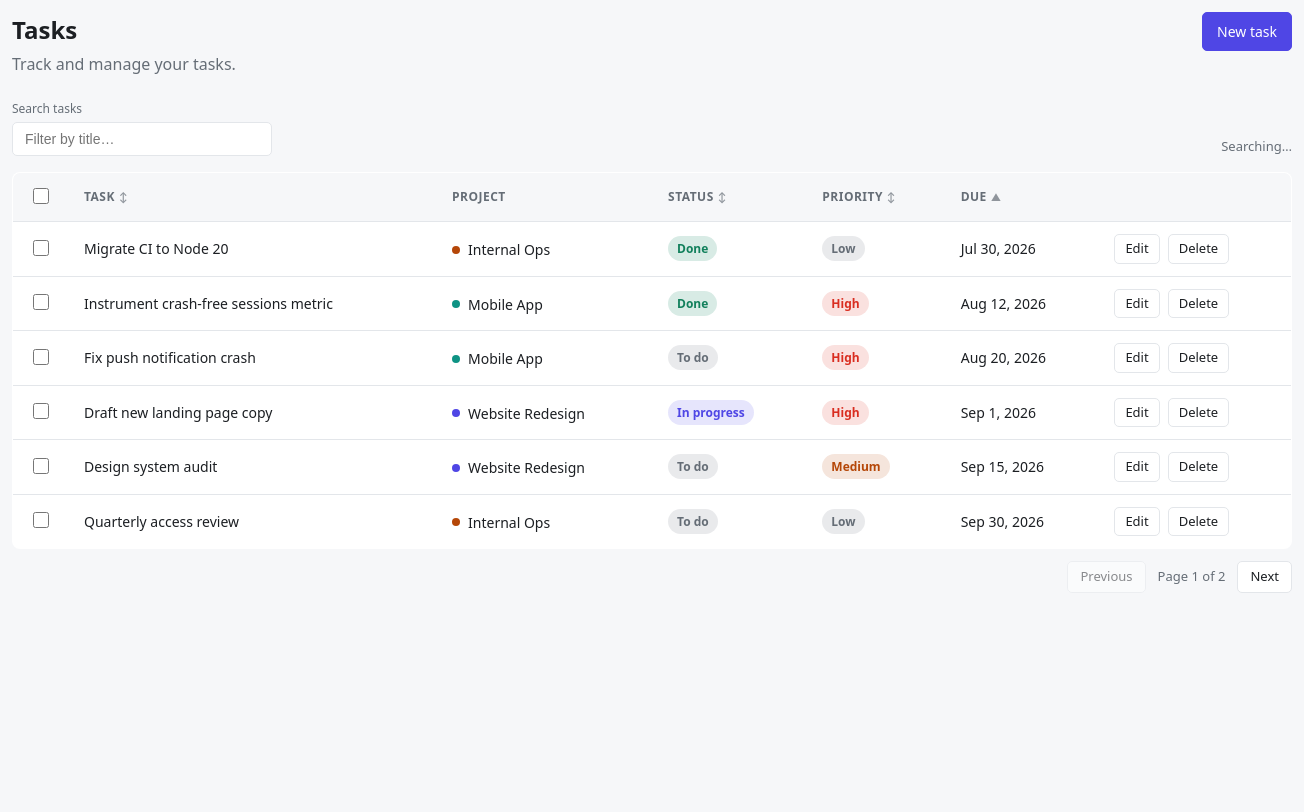
TasksPage › filters tasks by the search query
Expected: the text "Draft new landing page copy" is shown, [68,385,436,440]
Type "audit" into the search field at (142, 139), box [12,122,272,156]
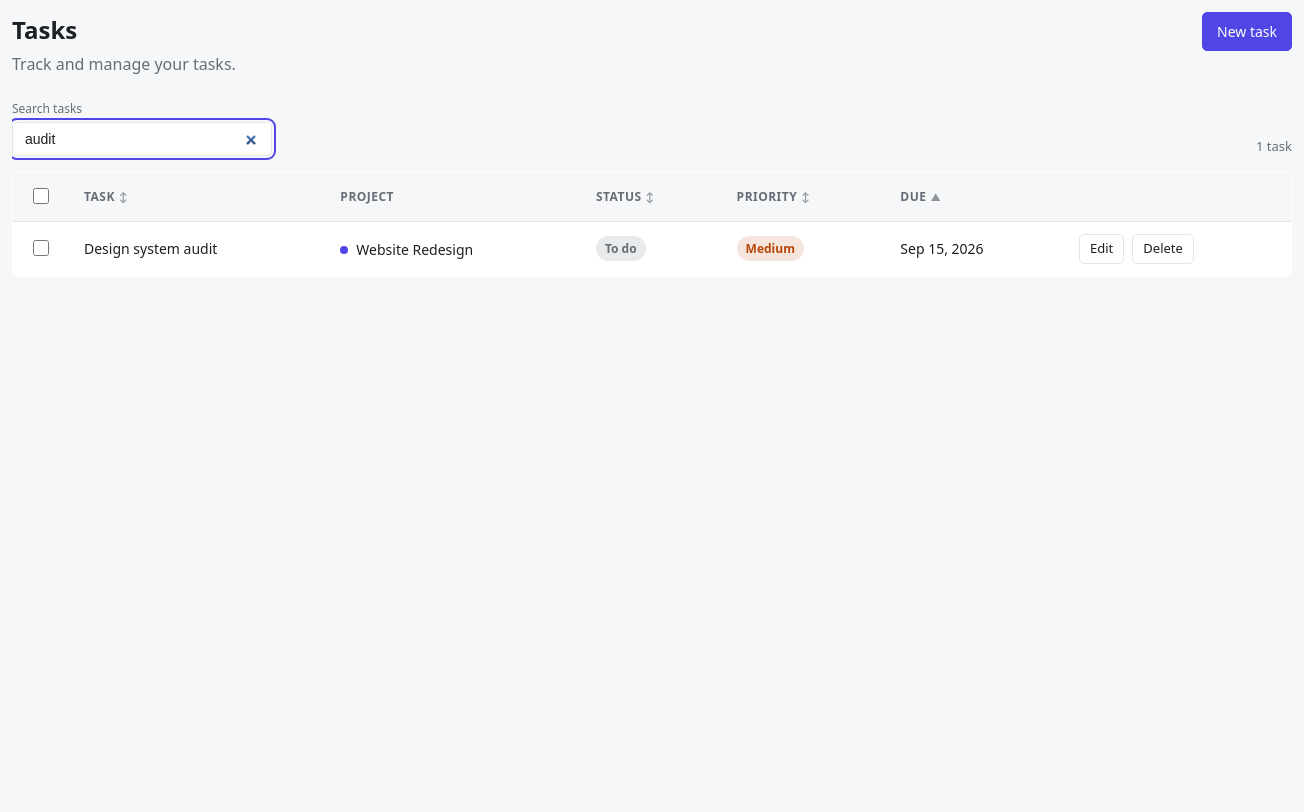
Expected: the text "Design system audit" is shown, [68,222,324,276]
Result: the text "Draft new landing page copy" is gone
